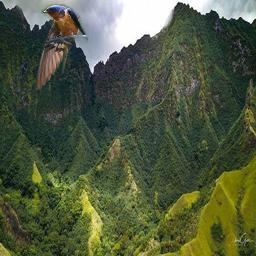Swallow: (35, 4, 89, 90)
